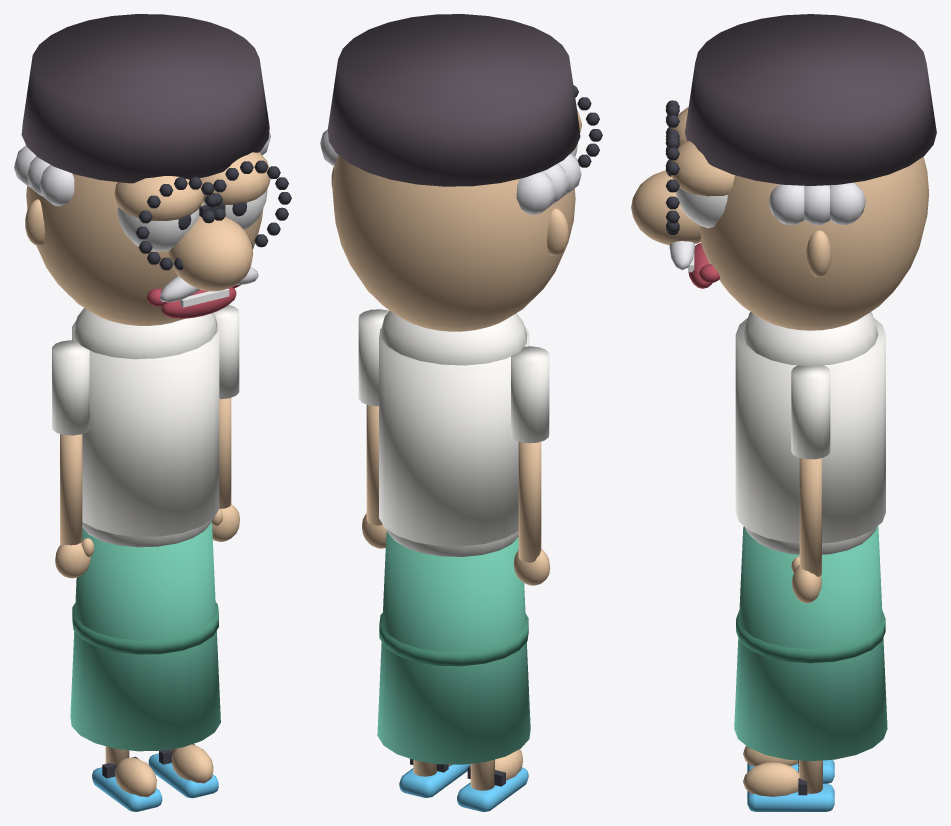
File: Char_Pakcik.fbx
The picture shows the model from 3 angles, left to right: view 1: azimuth 30°, elevation 25°; view 2: azimuth 150°, elevation 25°; view 3: azimuth 270°, elevation 25°; orthographic projection.
Parts seen in each view (by area): view 1: Head, Torso, ArmR, ArmL, LegR, LegL; view 2: Head, Torso, ArmR, ArmL, LegR, LegL; view 3: Head, Torso, ArmL, LegL, LegR.
Boxes of the visible parts, x1,y1,x2,y2 form: Head: (14,14,291,325); Torso: (70,308,220,751); ArmR: (52,340,94,578); ArmL: (212,305,239,541); LegR: (92,746,162,811); LegL: (148,744,218,798); Head: (320,14,602,331); Torso: (377,311,530,764); ArmR: (511,346,550,585); ArmL: (358,309,389,548); LegR: (457,749,528,811); LegL: (399,759,470,797); Head: (631,14,936,330); Torso: (734,312,887,761); ArmL: (791,365,830,603); LegL: (743,760,834,811); LegR: (743,746,834,783).
Bounding box in the file's own units: 0.6794 × 2.04 × 0.7729.
